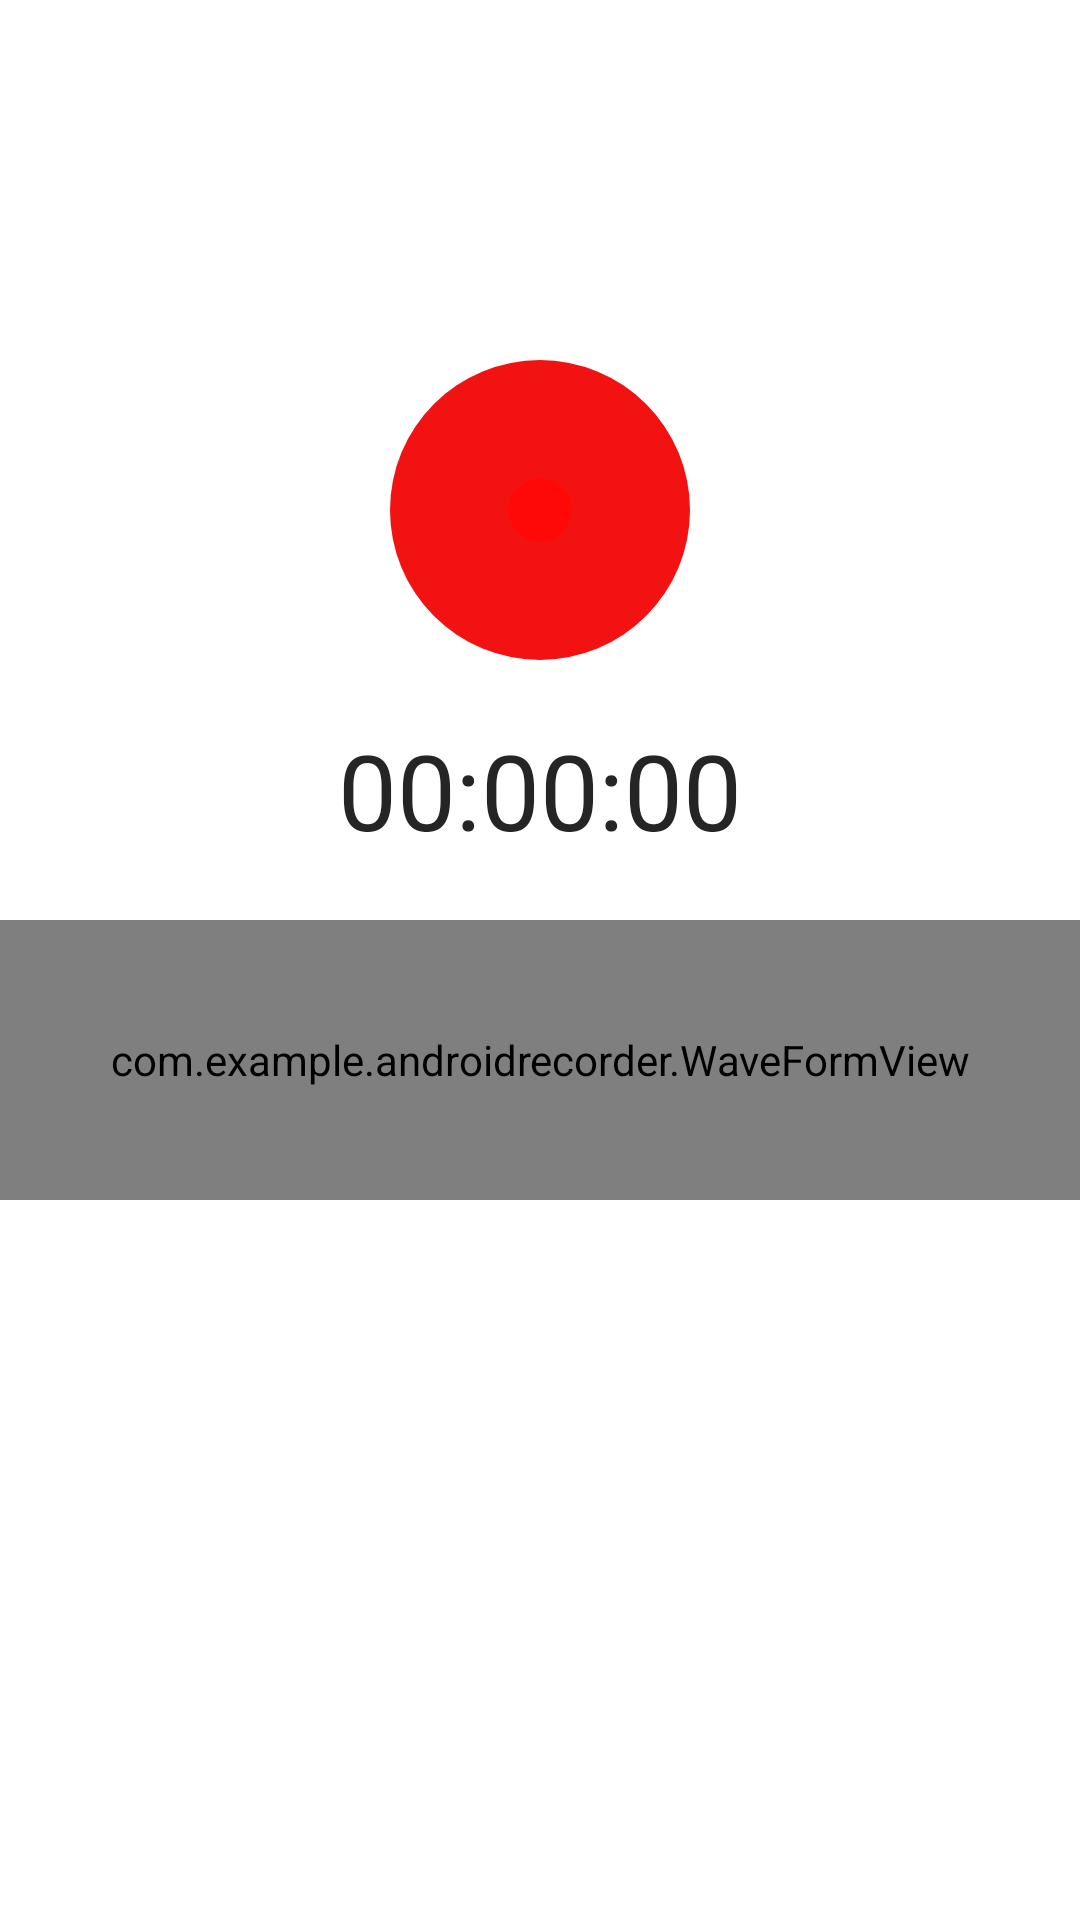

Icons on this 1080px x 1920px Android screen, each with the point to tap as [x,y]:
fiber manual record: [540,510]
